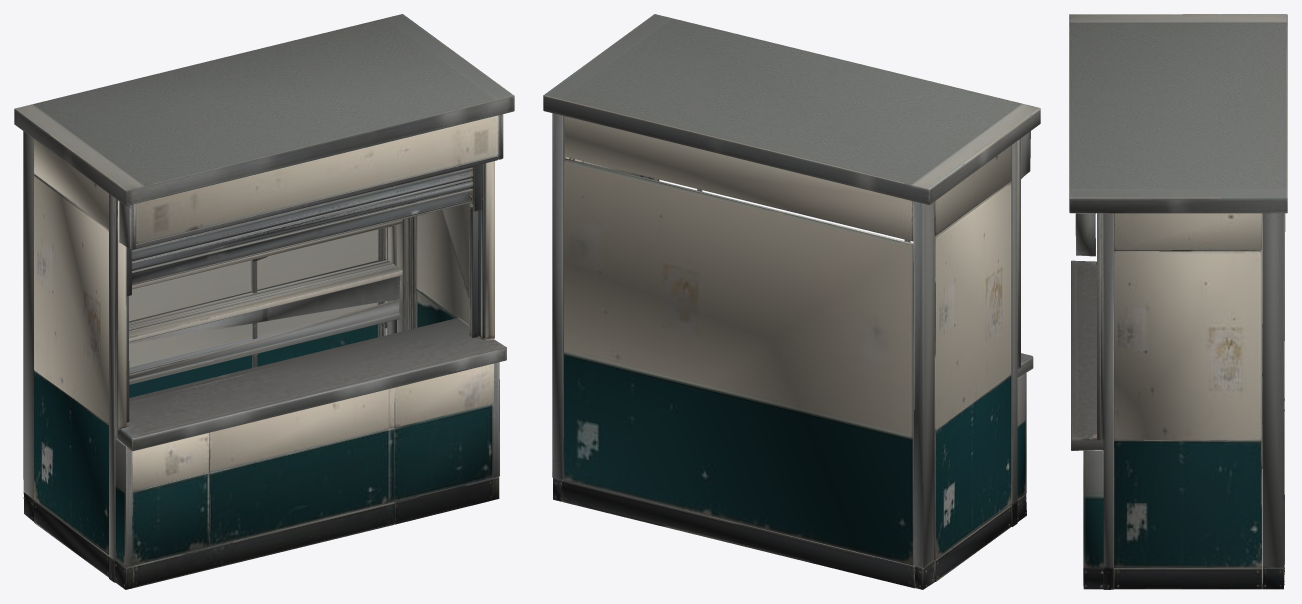
Rendered from stall-t25.glb.
3 renders of one model, left to right at view 1: azimuth 30°, elevation 25°; view 2: azimuth 150°, elevation 25°; view 3: azimuth 270°, elevation 25°, orthographic. The views are drawn at different scales.
Visible parts, largest first — view 1: stall-t25; view 2: stall-t25; view 3: stall-t25.
Part boxes in pixels (left/top/right/bottom): stall-t25: left=14, top=14, right=514, bottom=589; stall-t25: left=543, top=14, right=1040, bottom=589; stall-t25: left=1069, top=14, right=1287, bottom=589.
Bounding box in the file's own units: 2.4 × 2.4 × 1.2.
Materials: 1 (1 with a texture image).
